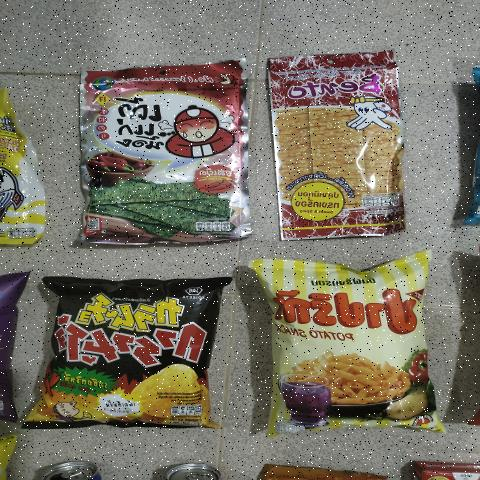bento_red: (275, 51, 403, 240)
karamujo: (38, 276, 224, 425)
paprika: (257, 267, 429, 433)
taokaenoi: (76, 65, 244, 249)
